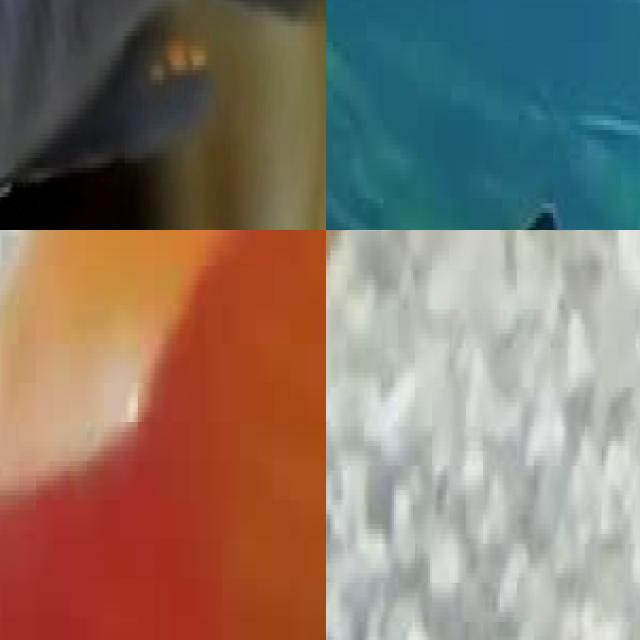fish: (0, 230, 326, 640), (0, 0, 326, 230)
